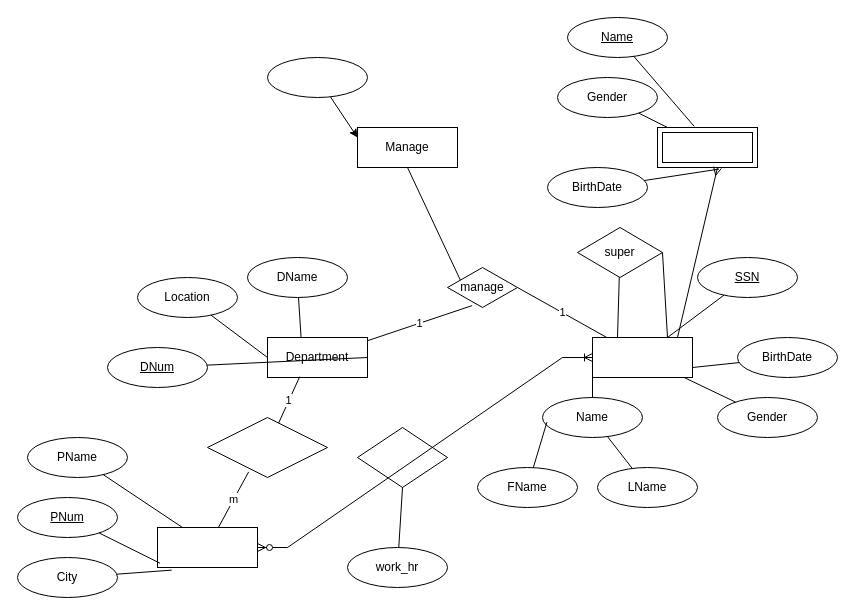
Image size: 855x615. Some labels were removed from this diagram. Here are the shapes that lost their labels. From the top down, the box of each, then its label:
(266, 56, 368, 98): Hire Date
(656, 126, 758, 168): dependent
(592, 336, 692, 378): Employee
(206, 416, 328, 478): Have
(356, 426, 448, 488): Work
(156, 526, 258, 568): Project
